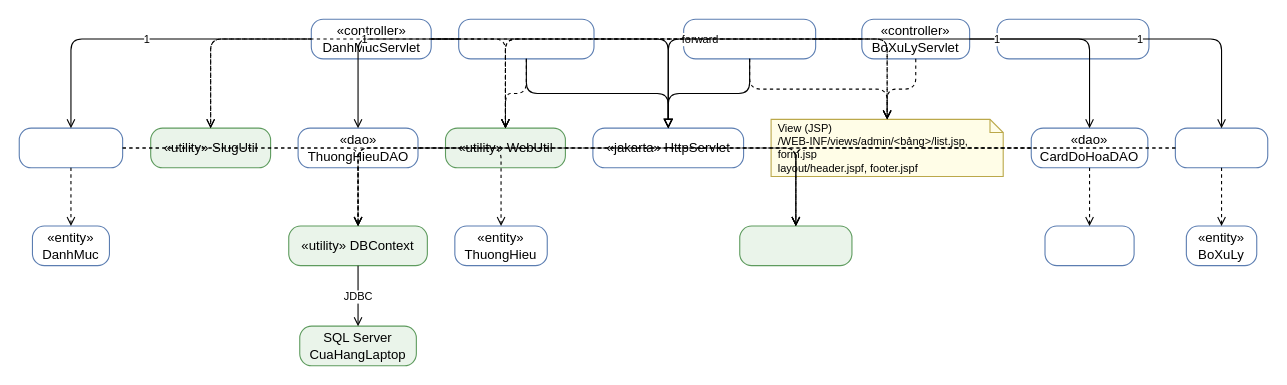
Some shapes in this 1287 by 385 pixel diagram are drawn without their labels. The shapes that lost their labels are listed below. From the top down, each one's box as (x1, y1, x2, y2) in pixels, then its label:
(458, 18, 594, 59): «controller» ThuongHieuServlet
(683, 18, 816, 59): «controller» CardDoHoaServlet
(996, 18, 1149, 59): «filter» EncodingFilter
(18, 127, 123, 168): «dao» DanhMucDAO
(1174, 127, 1268, 168): «dao» BoXuLyDAO
(739, 225, 852, 266): «utility» SqlUtil
(1044, 225, 1134, 266): «entity» CardDoHoa
